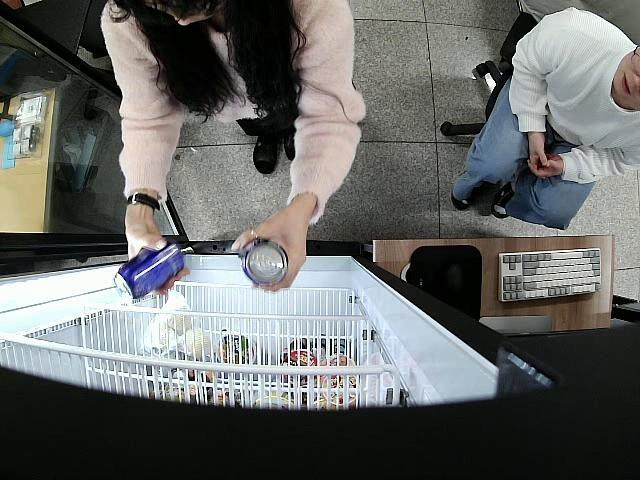14_welchsGrape: (114, 240, 184, 298), (239, 238, 288, 285)
